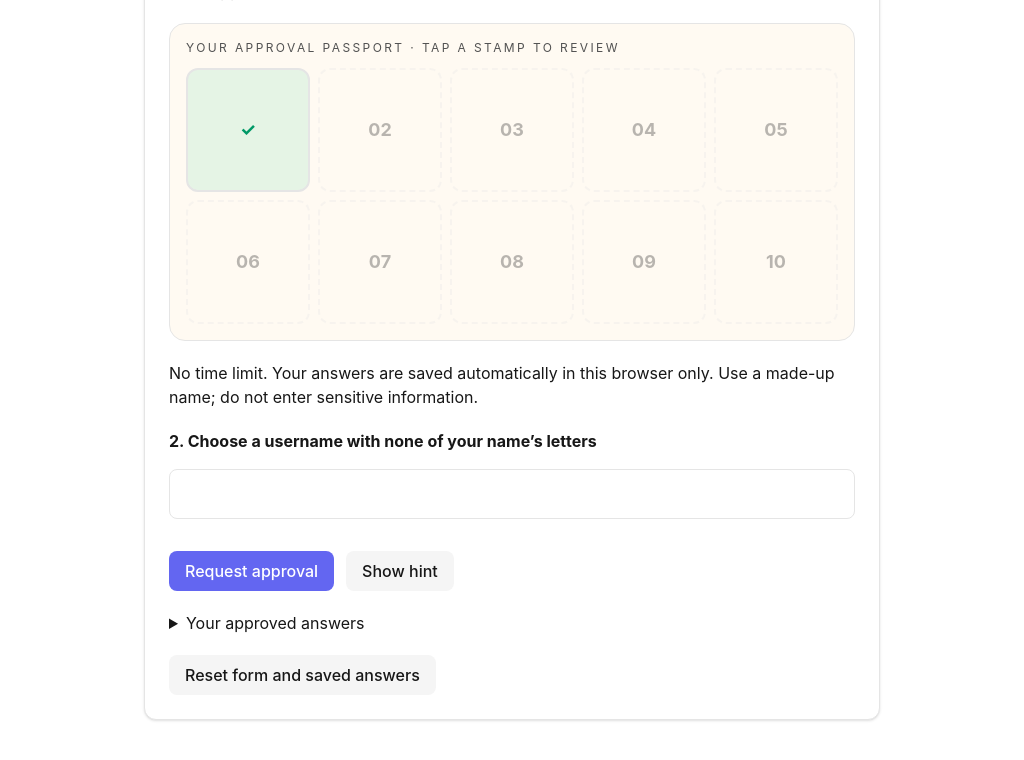
Test: can finish the form when a previously working store starts rejecting writes
The width and height of the screenshot is (1024, 760).
(page scrolled)
Type "mint" into the field at (512,494), box [169, 468, 855, 518]
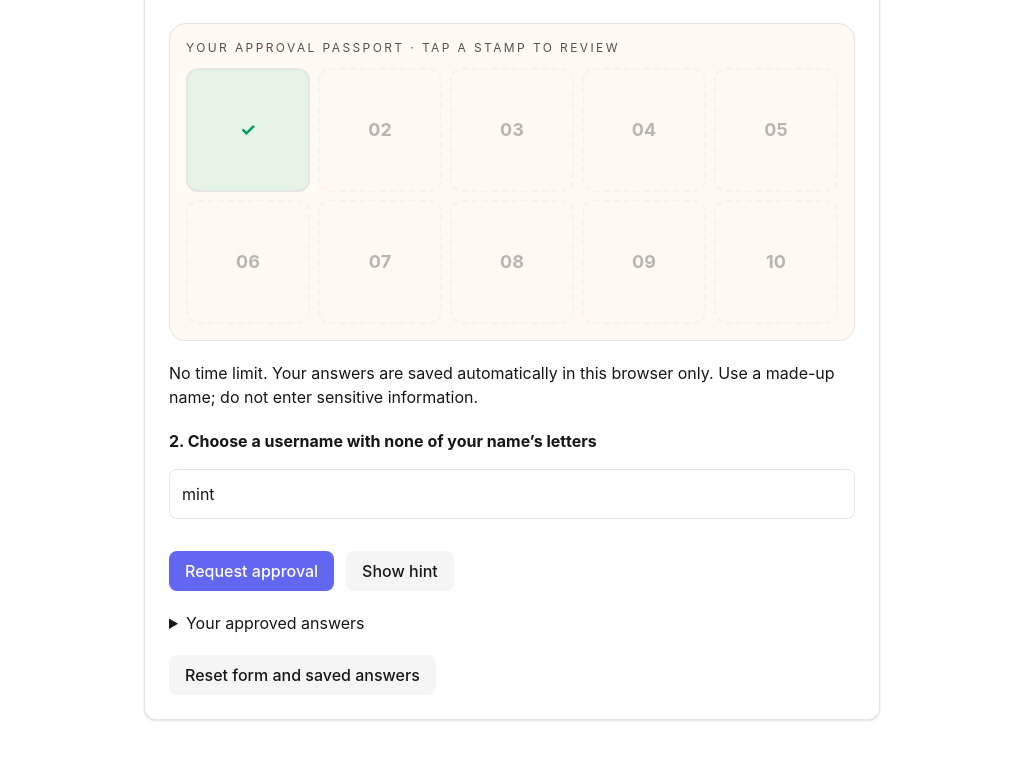
Click the button "Request approval" at (252,570), box [169, 550, 334, 590]
(page scrolled)
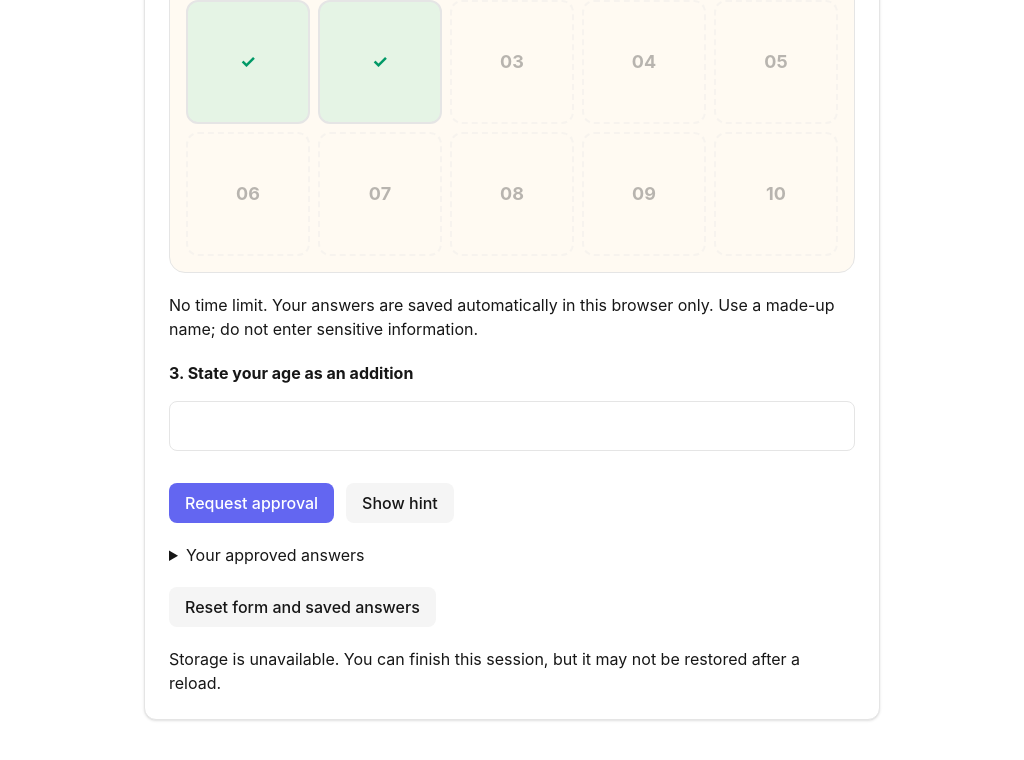
Expected: the text "Storage is unavailable" is shown, [169, 648, 800, 692]
